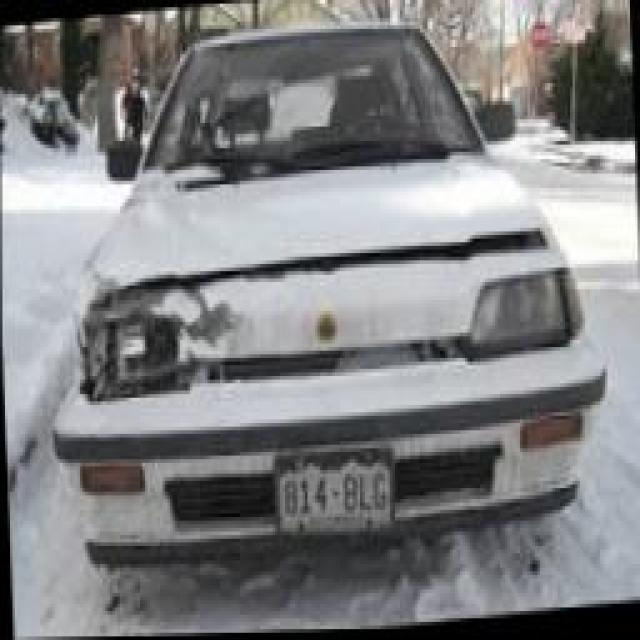Bonnet: (91, 142, 544, 282)
Light: (87, 309, 185, 395)
